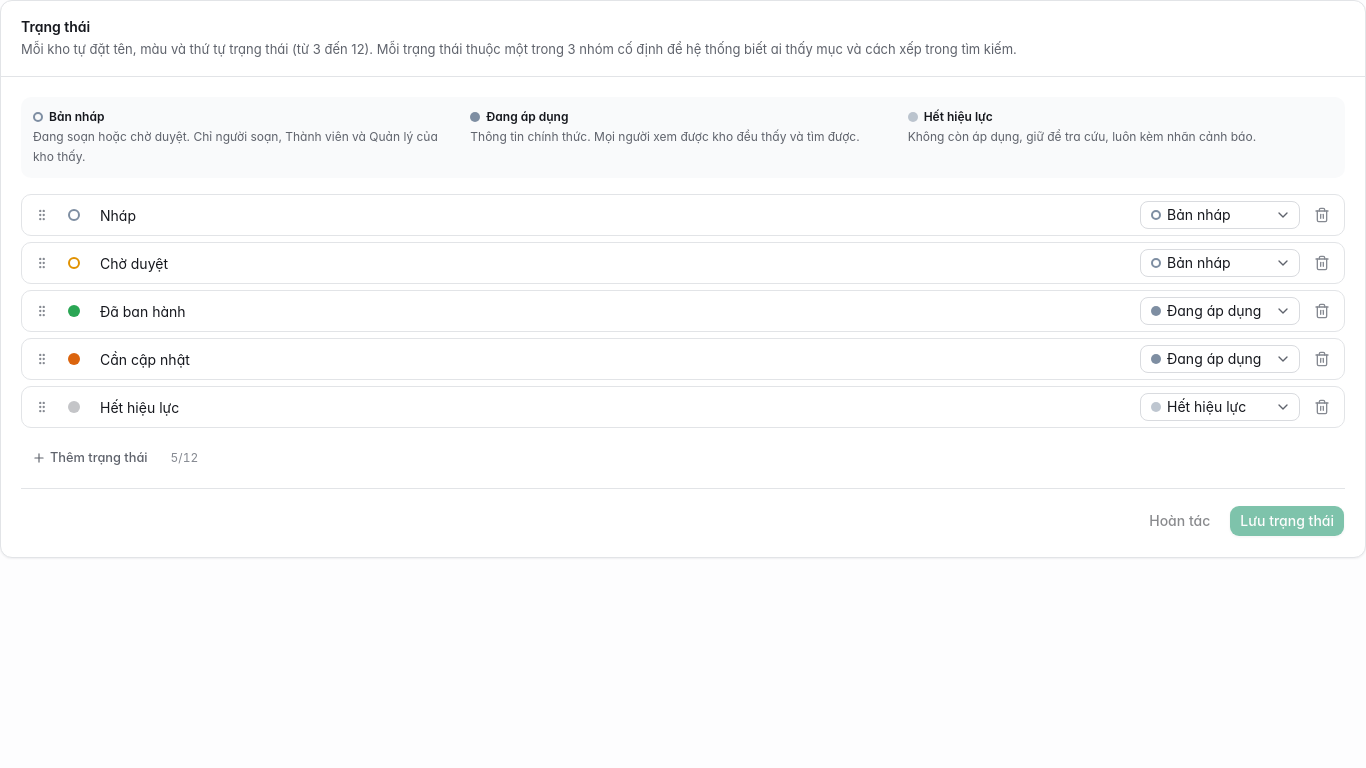
SpaceStatusesSection › validates before saving and marks the offending rows
Click the button "Thêm trạng thái". click: (90, 458)
box: [21,444,159,472]
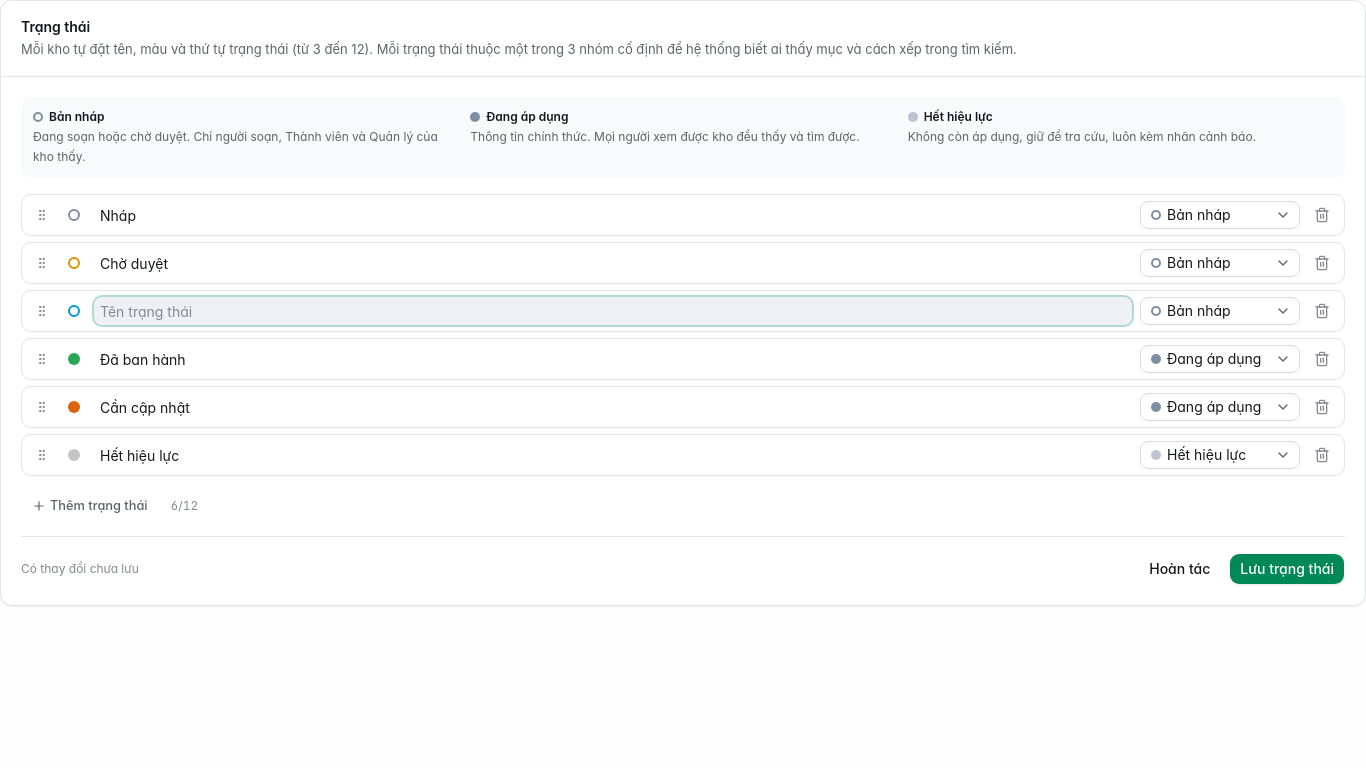
Now the number of fields named "Tên trạng thái thứ" is 6, box [94,201,1132,229]; [94,249,1132,277]; [94,297,1132,325]; [94,345,1132,373]; [94,393,1132,421]; [94,441,1132,469]
Now the field named "Tên trạng thái thứ" is empty, box [94,297,1132,325]
Click the button "Lưu trạng thái". click: (1287, 569)
box: [1229,553,1345,585]
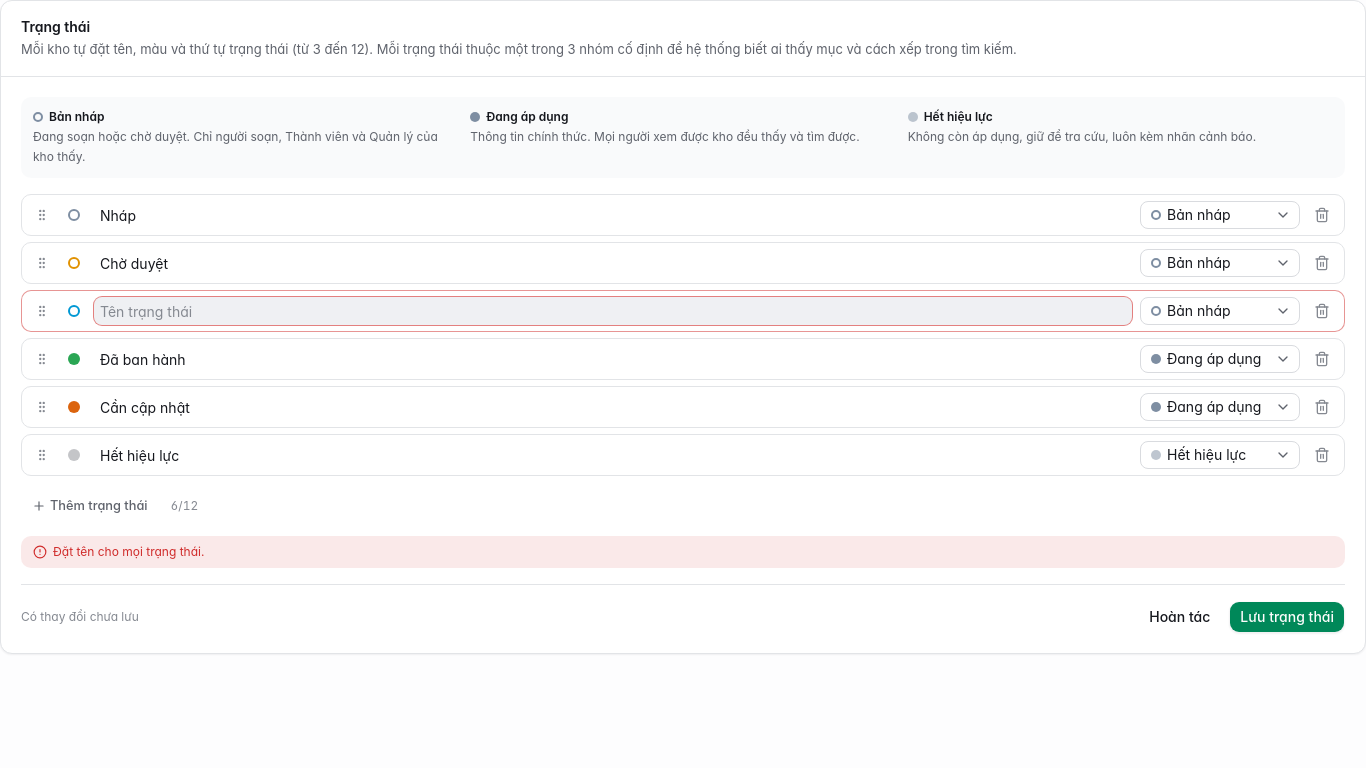
Now the message reads "Đặt tên cho mọi trạng thái.", box [53,544,204,559]
